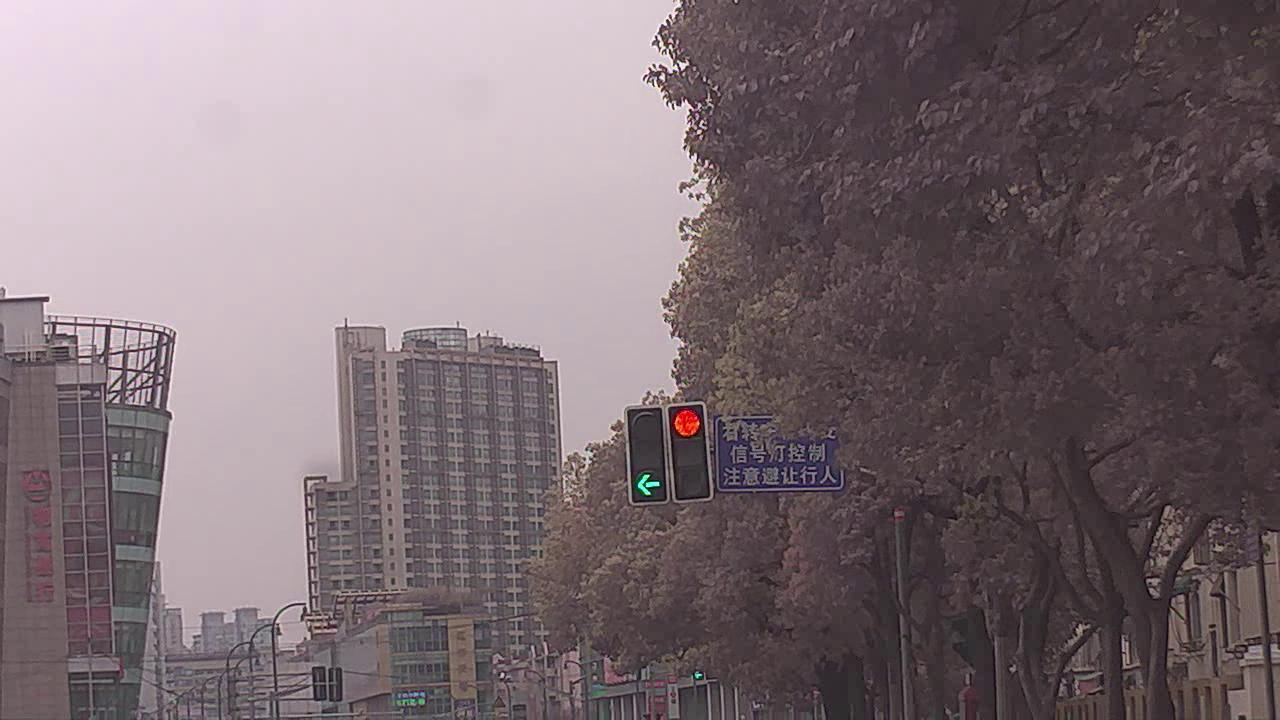traffic_light: (665, 407, 716, 503), (629, 404, 672, 507)
